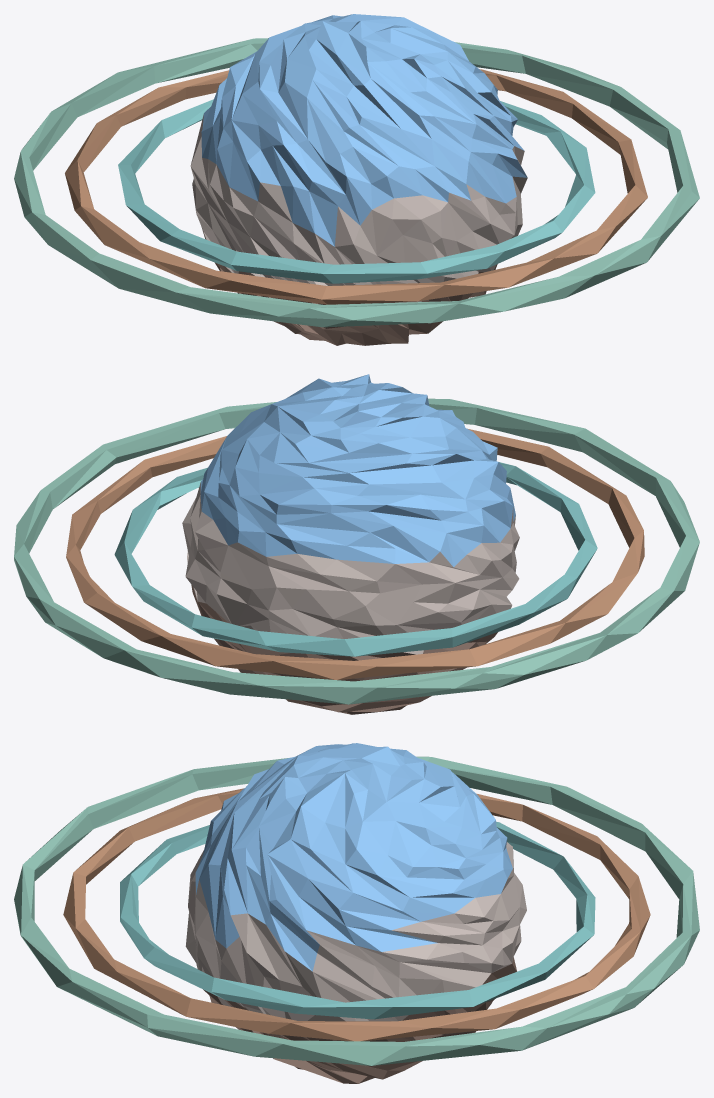
Rendered from Saturn.fbx.
3 views of the same model, one above another, from view 1: azimuth 30°, elevation 25°; view 2: azimuth 150°, elevation 25°; view 3: azimuth 270°, elevation 25° (orthographic).
Parts seen in each view (by area): view 1: Saturn; view 2: Saturn; view 3: Saturn.
Part boxes in pixels (bbox=[...]): Saturn: bbox=[14, 14, 699, 345]; Saturn: bbox=[14, 374, 699, 714]; Saturn: bbox=[14, 743, 699, 1083].
Bounding box in the file's own units: 76.1 × 37.79 × 75.78.
1 material, 1 textured.
